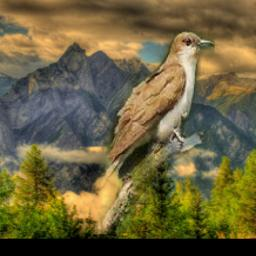Cuckoo: (72, 32, 214, 235)
